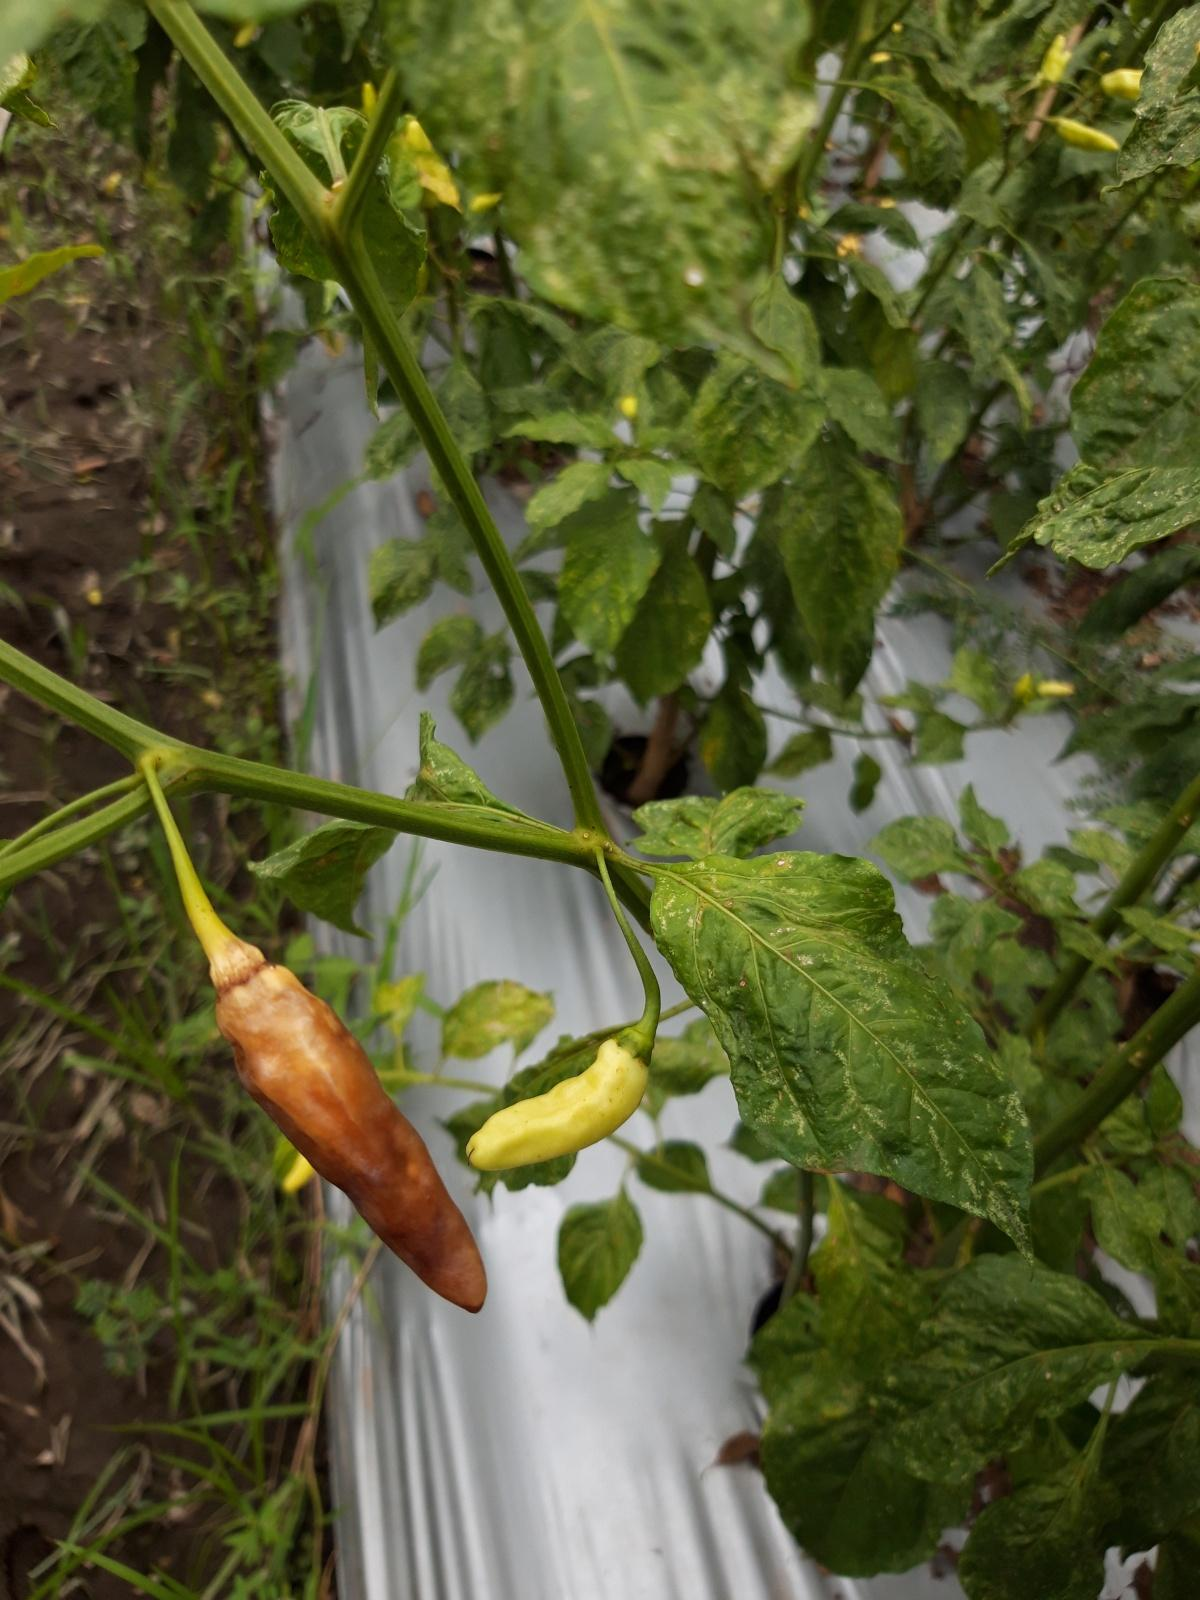cabai_normal: (461, 1031, 654, 1170)
lalat_buah: (198, 934, 488, 1314)
